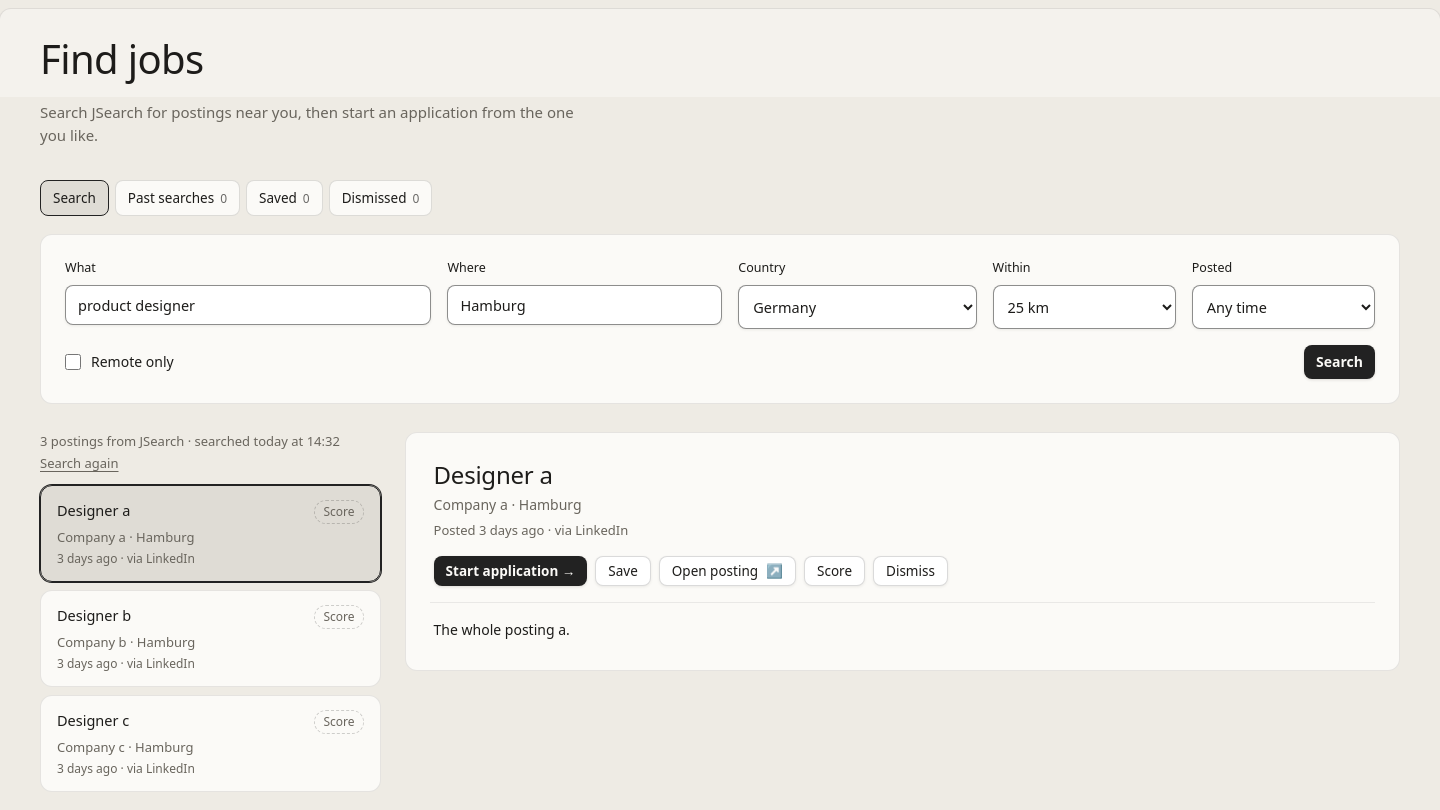
Test: the results › shows another posting when it's picked, and moves with the arrow keys
This screenshot has width=1440, height=810.
Step 1. Click the button "Designer b Company b · Hamburg 3 days ago · via LinkedIn" → (94, 615), box [40, 590, 381, 687]
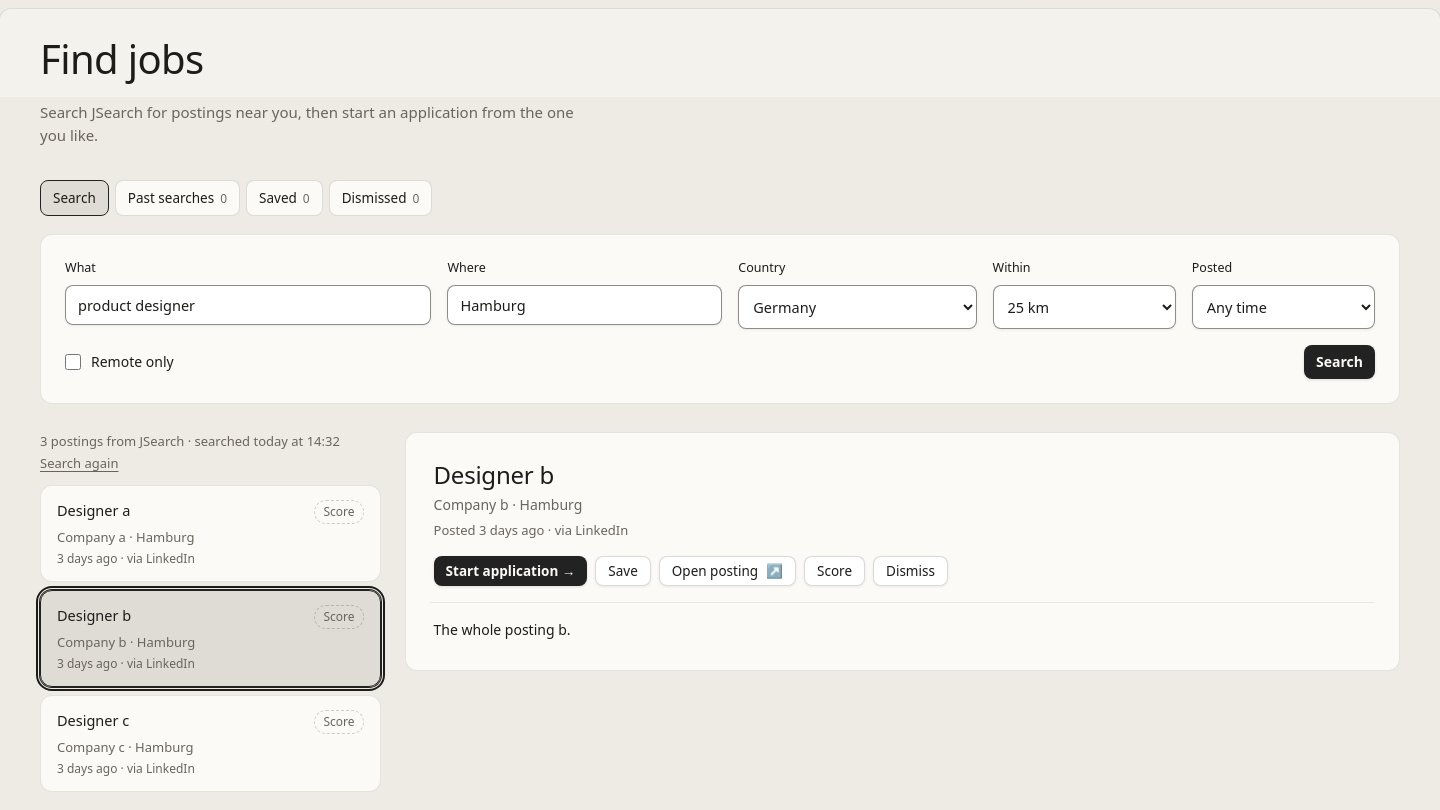
Result: the heading "Designer b" is shown at [434, 458, 554, 490]
Step 2. Press Arrowdown
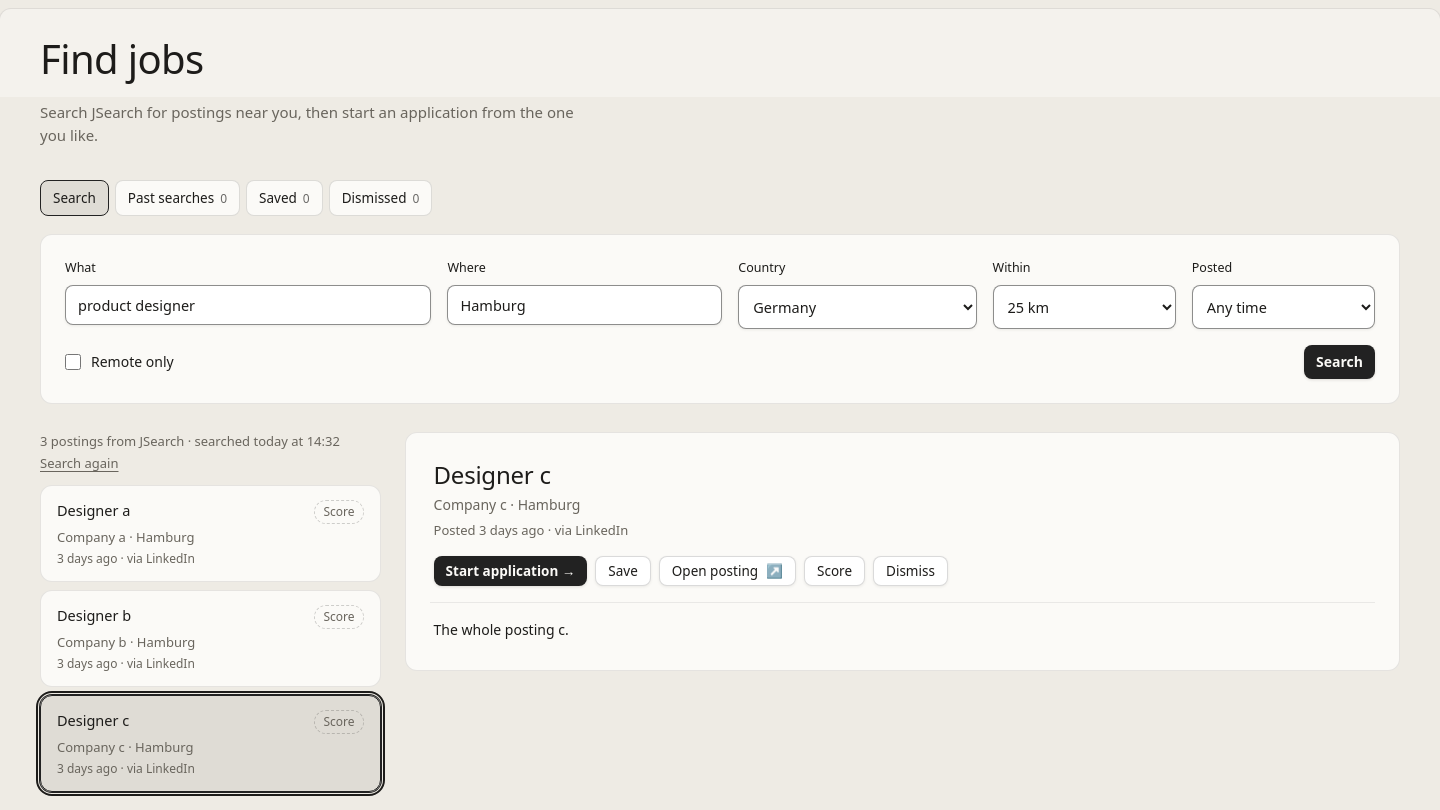
Result: the heading "Designer c" is shown at [434, 458, 551, 490]
Step 3. Press Arrowdown Arrowup Arrowup
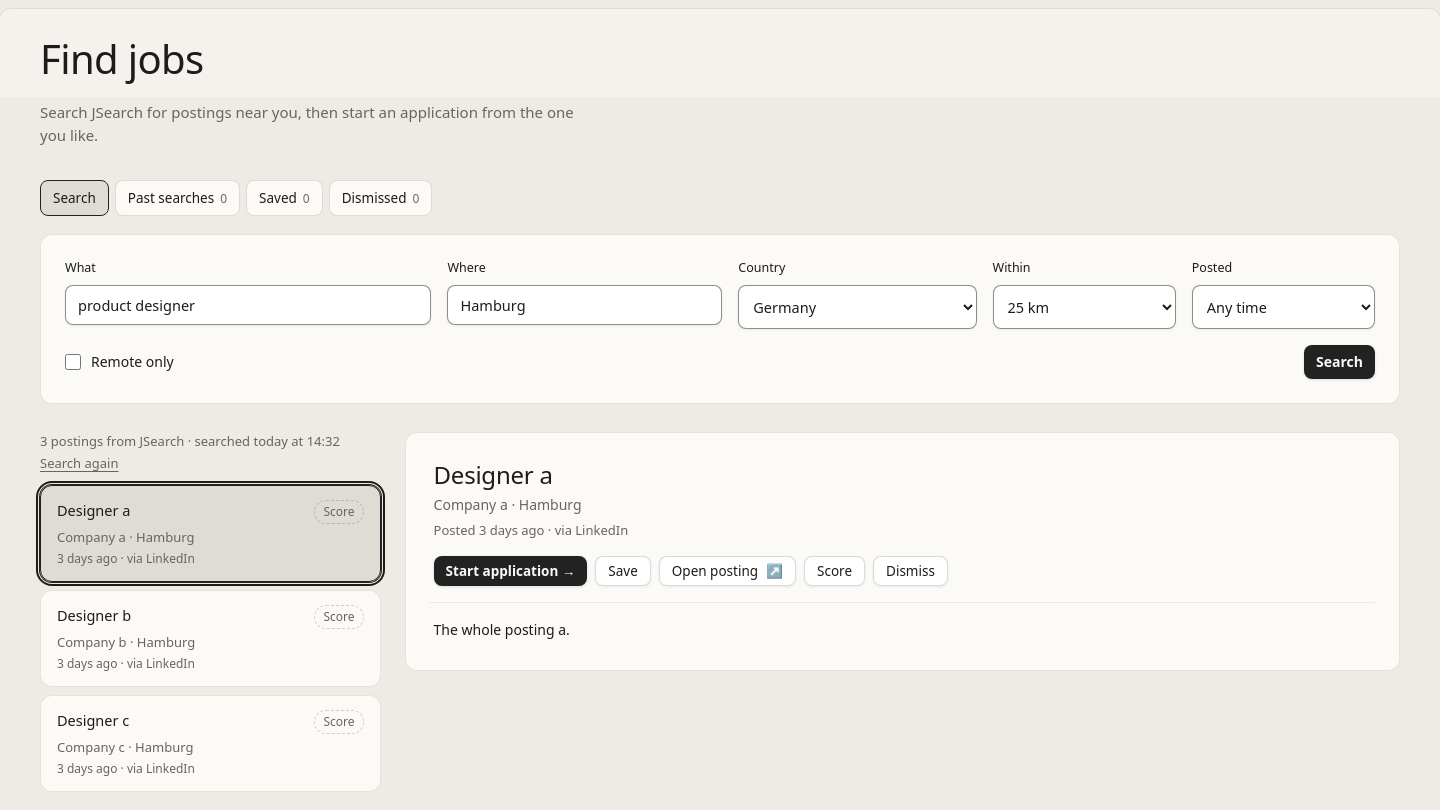
Result: the heading "Designer a" is shown at [434, 458, 553, 490]
